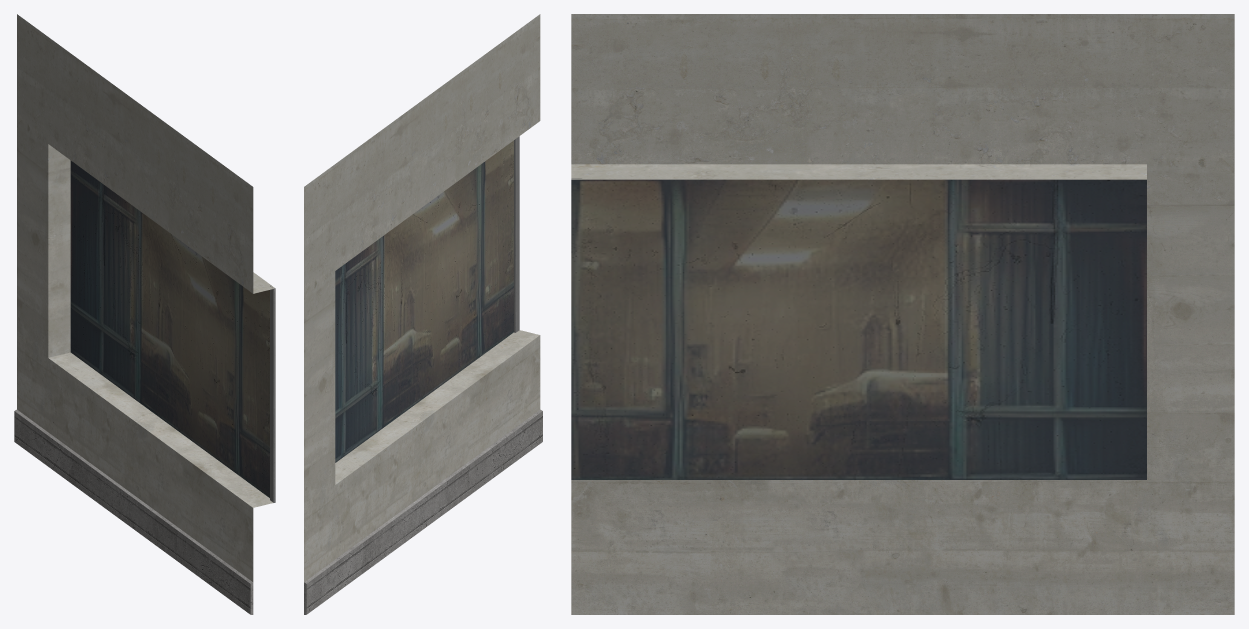
The model's file is HH_Hospital_Windows_4m_03.fbx.
The picture shows the model from 3 angles, left to right: view 1: azimuth 30°, elevation 25°; view 2: azimuth 150°, elevation 25°; view 3: azimuth 270°, elevation 25°; orthographic projection. The views are drawn at different scales.
Parts seen in each view (by area): view 1: HH_Hospital_Windows_4m_03; view 2: HH_Hospital_Windows_4m_03; view 3: HH_Hospital_Windows_4m_03.
Boxes of the visible parts, bbox=[...] form: HH_Hospital_Windows_4m_03: bbox=[14, 14, 275, 614]; HH_Hospital_Windows_4m_03: bbox=[304, 14, 542, 614]; HH_Hospital_Windows_4m_03: bbox=[571, 14, 1234, 614].
Bounding box in the file's own units: 24.6 × 400 × 400.
